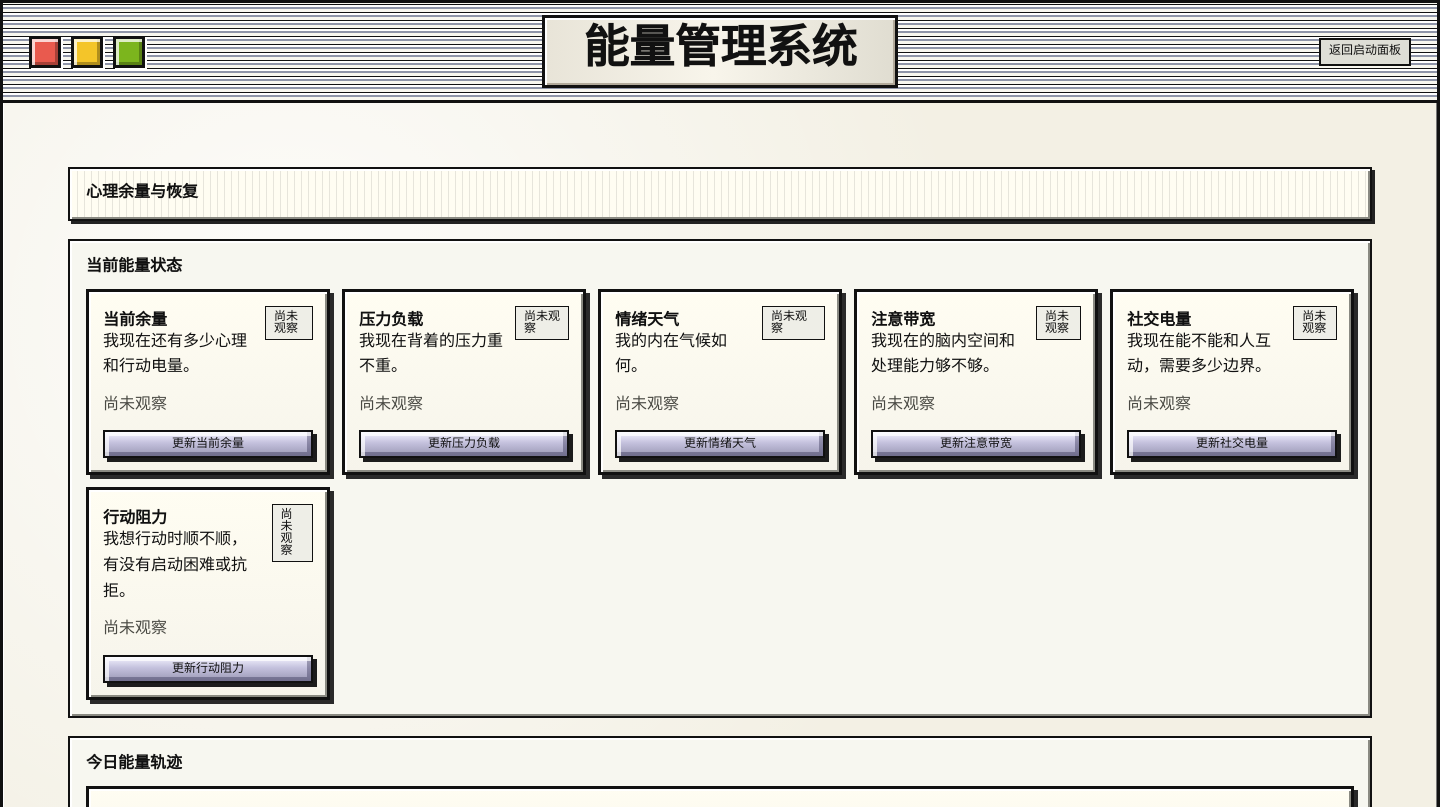
it: EnergyManagementPanel › renders semantic values as an ordered seven-step axis
Click the button "更新行动阻力" at (208, 669), box [103,655,313,683]
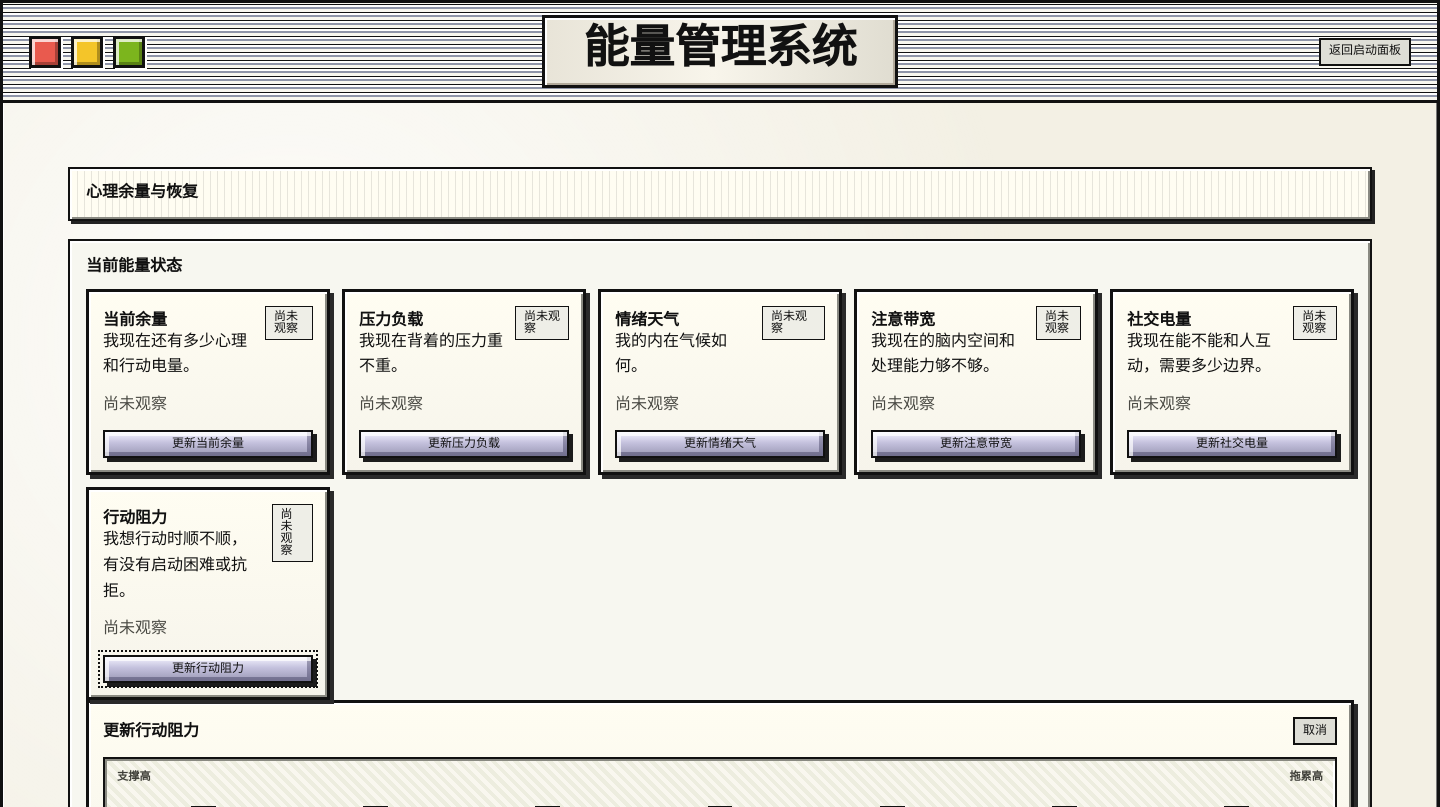
Expected: the text "支撑高" is shown, [117,771,151,784]
Expected: the text "拖累高" is shown, [1289,771,1323,784]
